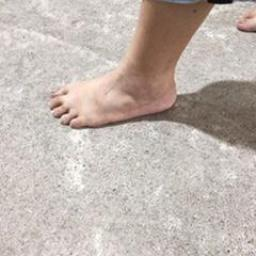Lateral View -Left Foot-: (42, 50, 191, 144)
